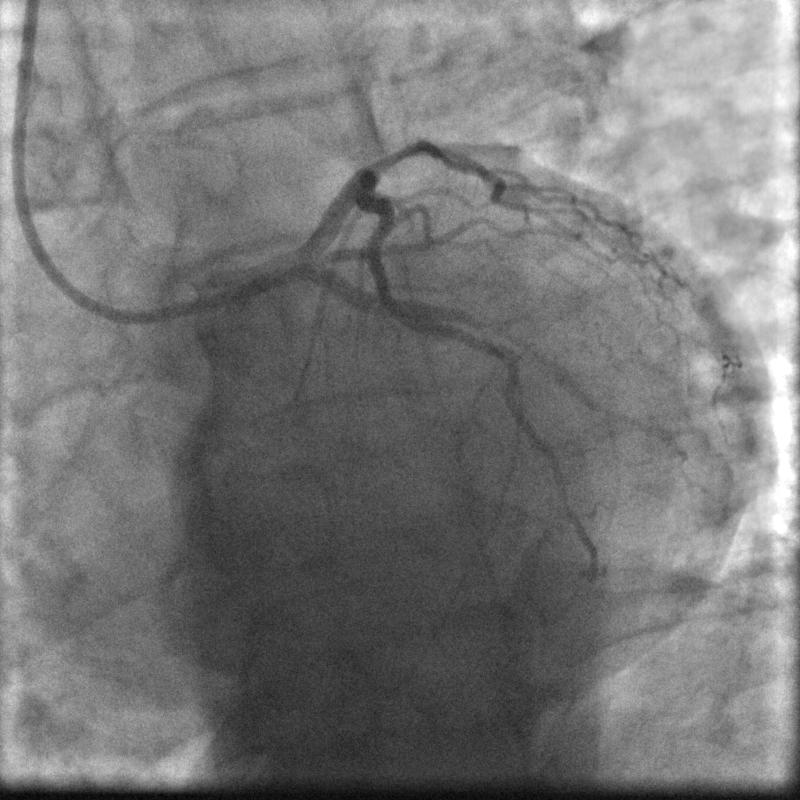Stenosis: (362, 133, 426, 175)
